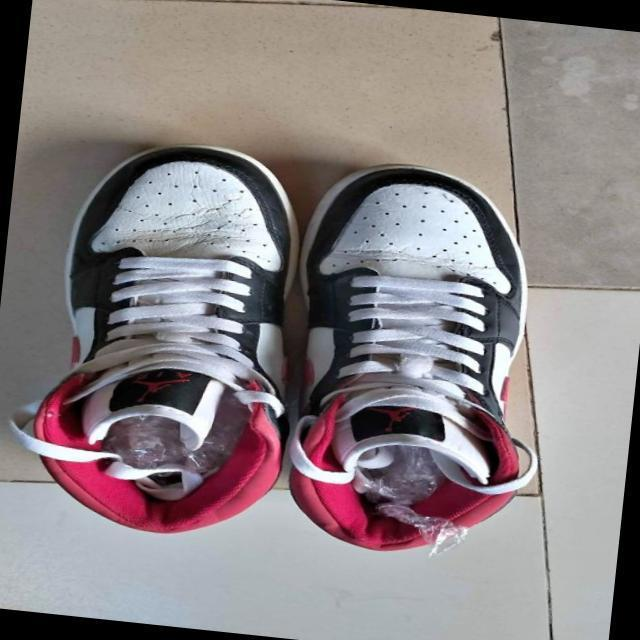nike fake jordan 1: (10, 126, 328, 550), (268, 153, 562, 564)
